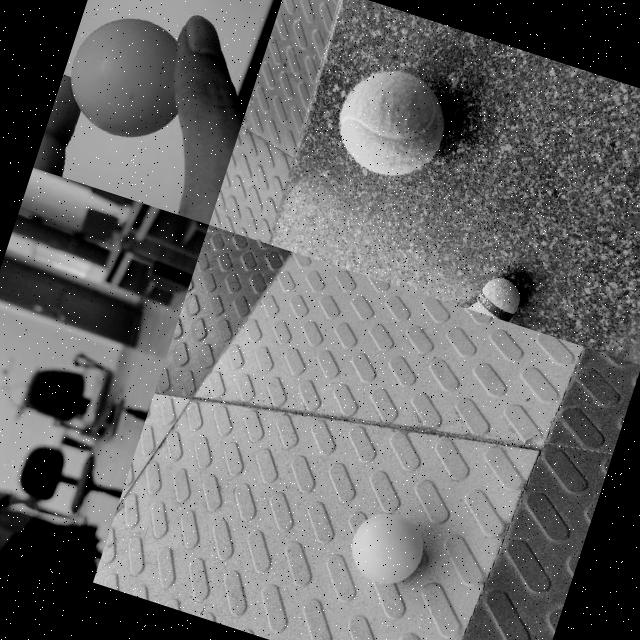ping-pong-ball: (55, 4, 200, 151), (340, 505, 430, 592)
